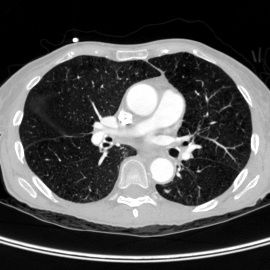PN: (165, 189, 169, 193)
